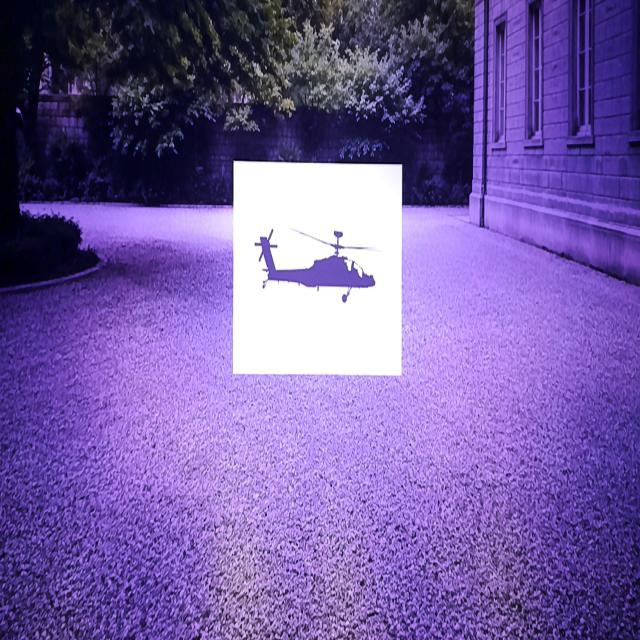Apache friendly: (255, 230, 374, 302)
